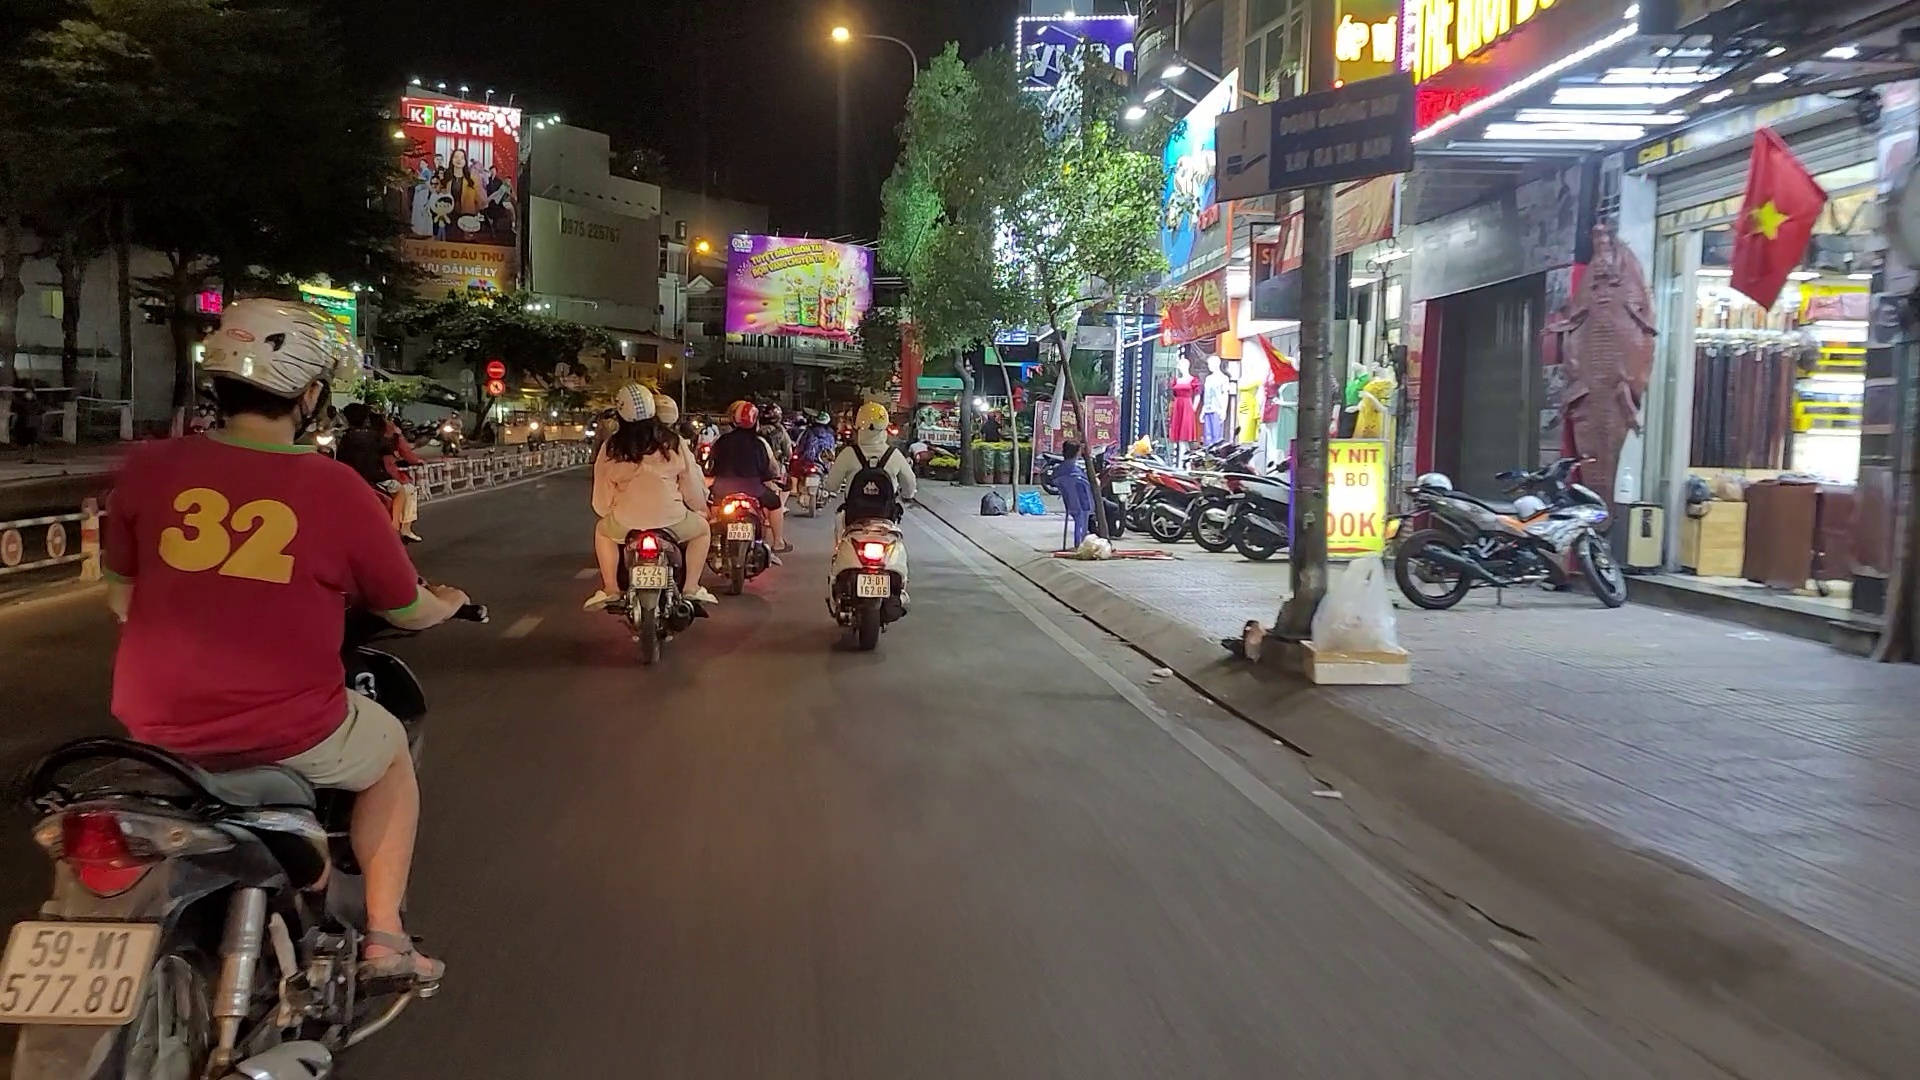Bien khac: (1218, 67, 1418, 210)
